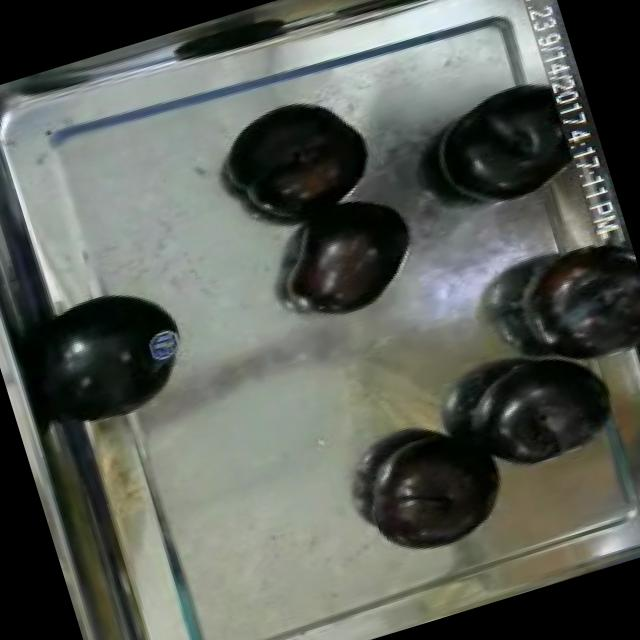Fruit: (343, 402, 528, 569), (412, 68, 585, 227), (207, 78, 386, 231), (268, 180, 440, 336), (463, 330, 626, 478), (522, 228, 640, 380), (136, 314, 194, 370)
